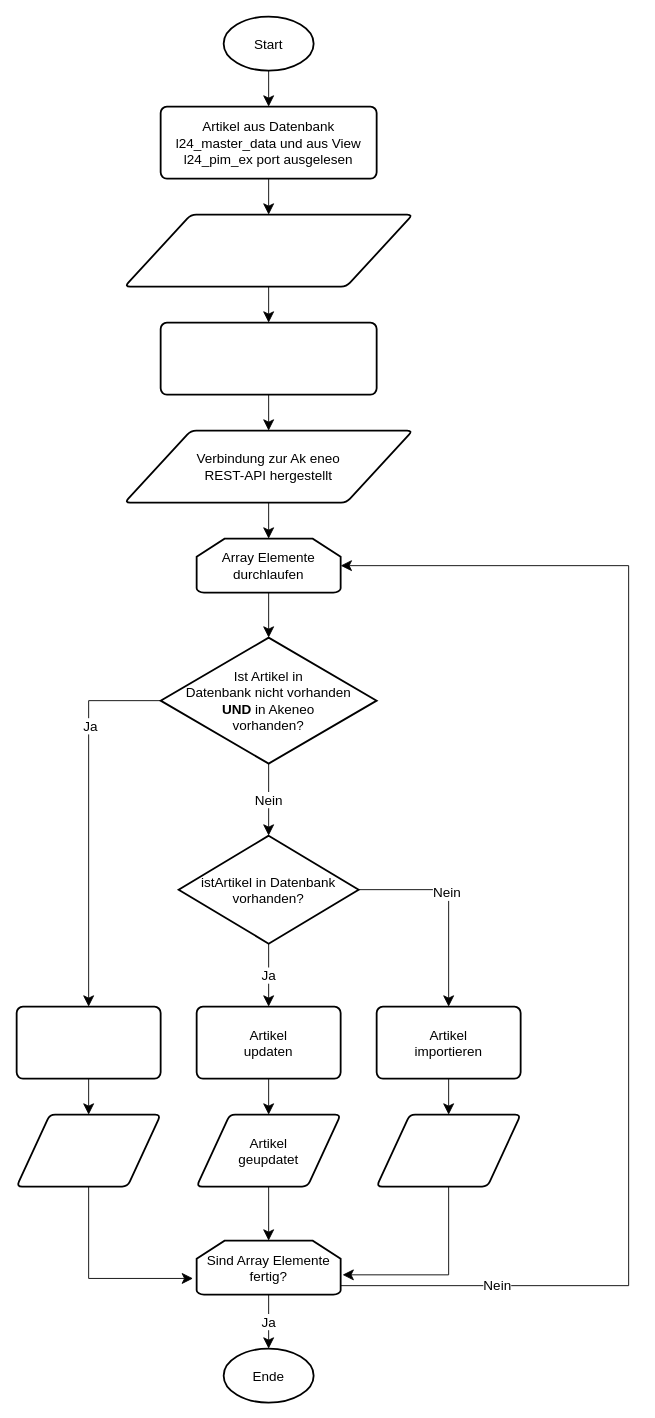
This 655x1418 diagram has some shape labels left out. The centre of each missing label's shape, as x and y in pixels:
"Arikel aus Datenbank l24_master_data und aus View l24_pim_ex port ausgelesen" goes at (268,250).
"Artikel importiert" goes at (448,1150).
"Artikel in Akeneo deaktivieren" goes at (88,1042).
"Artikel in Akeneo deaktiviert" goes at (88,1150).
"Verbindung zur Ak eneo REST- API herstellen" goes at (268,358).
